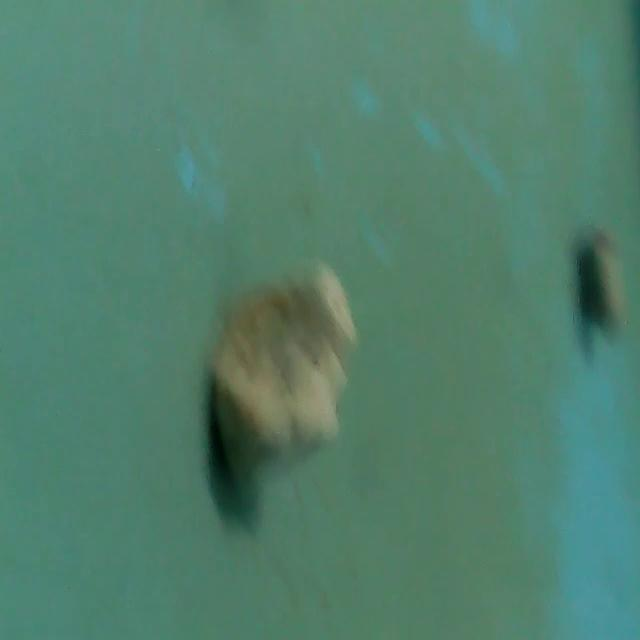rock: (202, 262, 364, 504)
